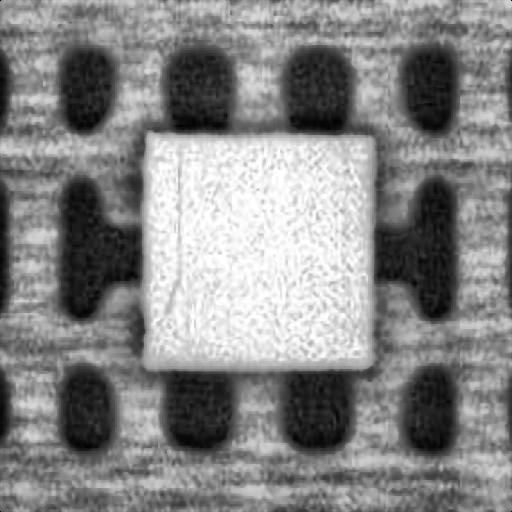DIE_CRACK: (149, 149, 183, 329)
